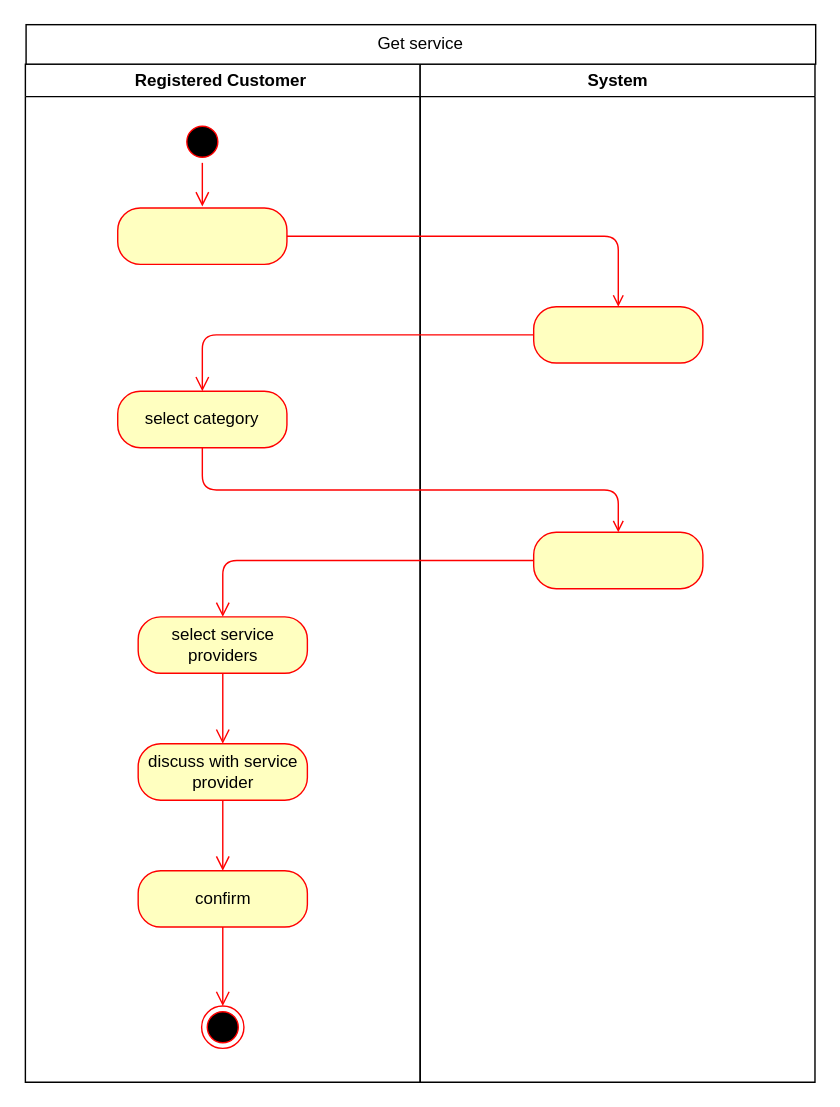
This 840x1107 diagram has some shape labels left out. The shapes that lost their labels are listed below. From the top down, each one's centre as x and y in pixels, then its label:
[201,235]: select service
[617,334]: show category
[617,560]: show service providers
